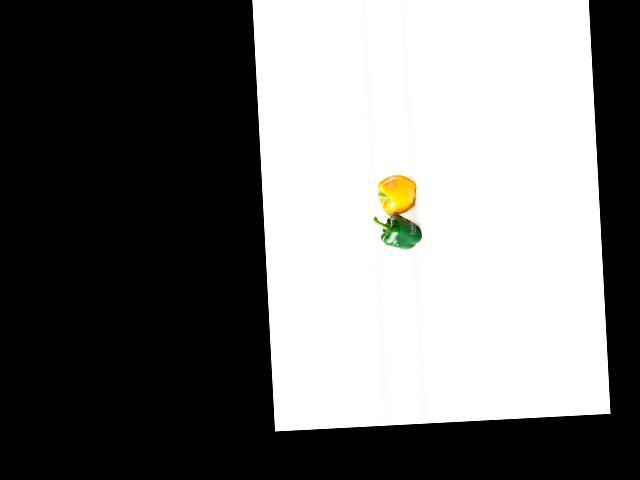bell_pepper: (377, 213, 428, 254)
